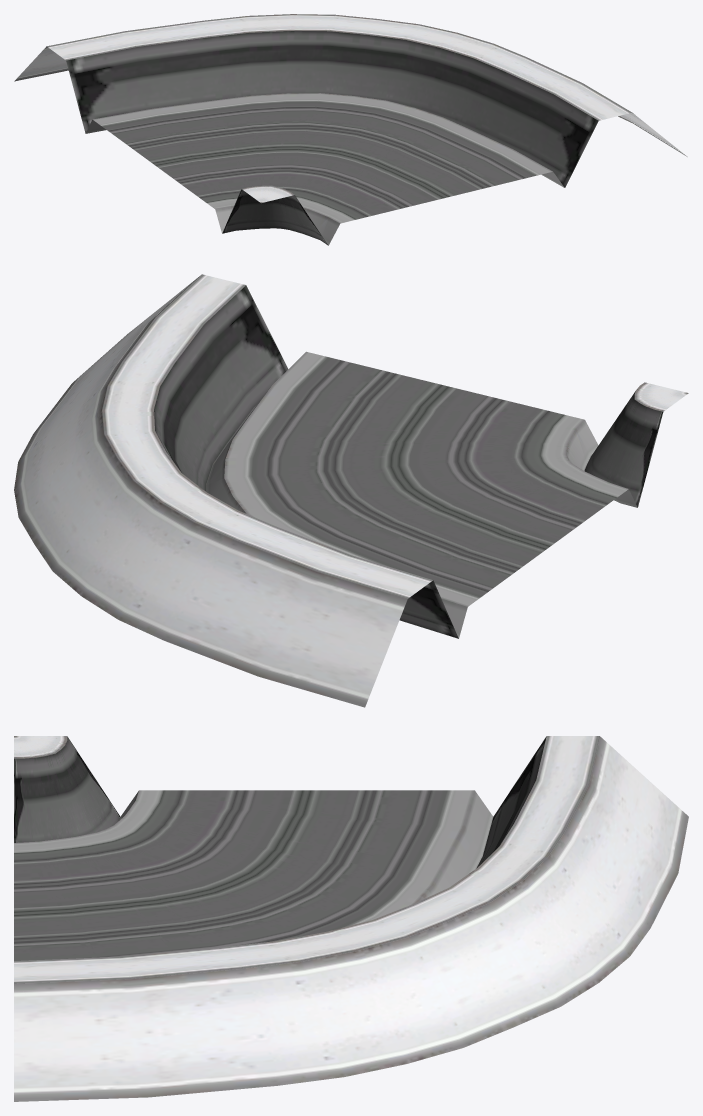
Rendered from Ground_Trim_Corner.FBX.
3 views of the same model, one above another, from view 1: azimuth 30°, elevation 25°; view 2: azimuth 150°, elevation 25°; view 3: azimuth 270°, elevation 25° (orthographic). The views are drawn at different scales.
Visible parts, largest first — view 1: Ground_Trim_Corner; view 2: Ground_Trim_Corner; view 3: Ground_Trim_Corner.
Part boxes in pixels (box(x1,y1,x2,y2)): Ground_Trim_Corner: box(14, 14, 687, 245); Ground_Trim_Corner: box(14, 274, 688, 707); Ground_Trim_Corner: box(14, 736, 688, 1101).
Size of the model in its own units: 1.15 by 0.152 by 1.15.
